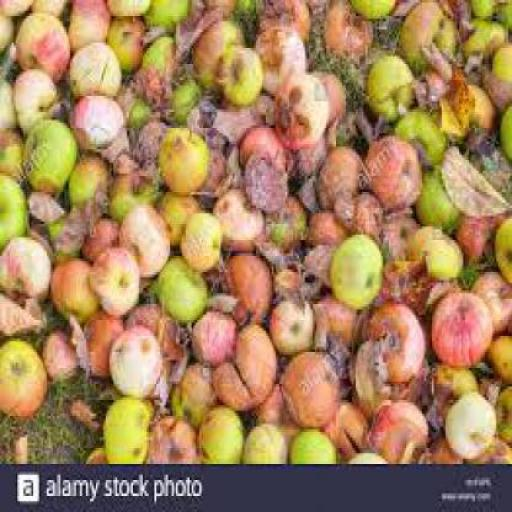biodegradable: (0, 0, 511, 463), (211, 320, 275, 409), (362, 299, 420, 387), (123, 298, 186, 376), (438, 142, 510, 210), (278, 350, 340, 424), (397, 0, 457, 74), (18, 114, 74, 192), (360, 133, 420, 205), (66, 88, 126, 157), (430, 288, 488, 357), (438, 78, 496, 146), (219, 245, 270, 322), (457, 128, 510, 202), (115, 200, 168, 274), (273, 70, 325, 144), (364, 394, 424, 458), (330, 230, 381, 304), (14, 8, 68, 77), (108, 326, 162, 394), (345, 333, 387, 419), (442, 390, 495, 458), (0, 334, 43, 416), (99, 395, 151, 462), (443, 390, 495, 456), (252, 22, 303, 88), (158, 122, 208, 189), (364, 50, 416, 114), (154, 251, 202, 320), (308, 288, 358, 354), (88, 242, 137, 309), (0, 232, 49, 298), (213, 40, 262, 104), (156, 125, 207, 186), (192, 22, 240, 86), (426, 362, 477, 422), (211, 186, 262, 246), (266, 290, 315, 352), (64, 43, 118, 99), (51, 254, 98, 318), (406, 165, 456, 224), (379, 250, 428, 310), (78, 302, 121, 370), (376, 349, 430, 403), (392, 106, 446, 160), (406, 221, 458, 277), (468, 267, 510, 336), (313, 144, 358, 208), (170, 358, 215, 422), (320, 0, 372, 54), (12, 64, 57, 126), (449, 211, 501, 262), (176, 210, 220, 270), (65, 146, 109, 206), (324, 392, 366, 454), (242, 149, 286, 208), (198, 402, 240, 462), (172, 6, 228, 51), (143, 413, 197, 458), (104, 13, 146, 69), (262, 192, 304, 246), (190, 310, 235, 360), (110, 166, 156, 214), (252, 0, 310, 38), (436, 69, 472, 130), (332, 186, 379, 232), (156, 186, 198, 237), (125, 66, 170, 112), (378, 208, 420, 256), (309, 66, 346, 120), (268, 264, 322, 301), (211, 96, 264, 133), (457, 19, 504, 59), (41, 326, 78, 376), (237, 123, 281, 165), (1, 291, 45, 333), (65, 0, 109, 42), (239, 421, 283, 461), (297, 240, 332, 288), (80, 214, 119, 256), (288, 424, 336, 458), (1, 171, 25, 238), (164, 75, 202, 117), (65, 304, 88, 373), (280, 142, 324, 178), (418, 35, 457, 75), (248, 382, 285, 424), (43, 214, 80, 256), (1, 122, 25, 182), (303, 242, 332, 290), (485, 327, 509, 384), (254, 240, 304, 267), (198, 144, 227, 190), (305, 208, 344, 242), (139, 32, 174, 69), (117, 83, 146, 125), (465, 432, 510, 459), (493, 210, 510, 277), (481, 64, 510, 103), (416, 66, 448, 101), (185, 91, 217, 126), (140, 0, 190, 22), (24, 190, 58, 222), (422, 432, 462, 459), (0, 74, 20, 128), (494, 384, 510, 441), (148, 374, 170, 410), (498, 98, 510, 162), (346, 0, 400, 14), (488, 40, 510, 74), (342, 448, 387, 462), (190, 0, 235, 14), (27, 0, 67, 14), (0, 13, 14, 53), (0, 40, 14, 77), (494, 0, 510, 32), (0, 0, 32, 15), (469, 0, 502, 14), (104, 0, 150, 10), (84, 440, 102, 462), (206, 125, 222, 149)
